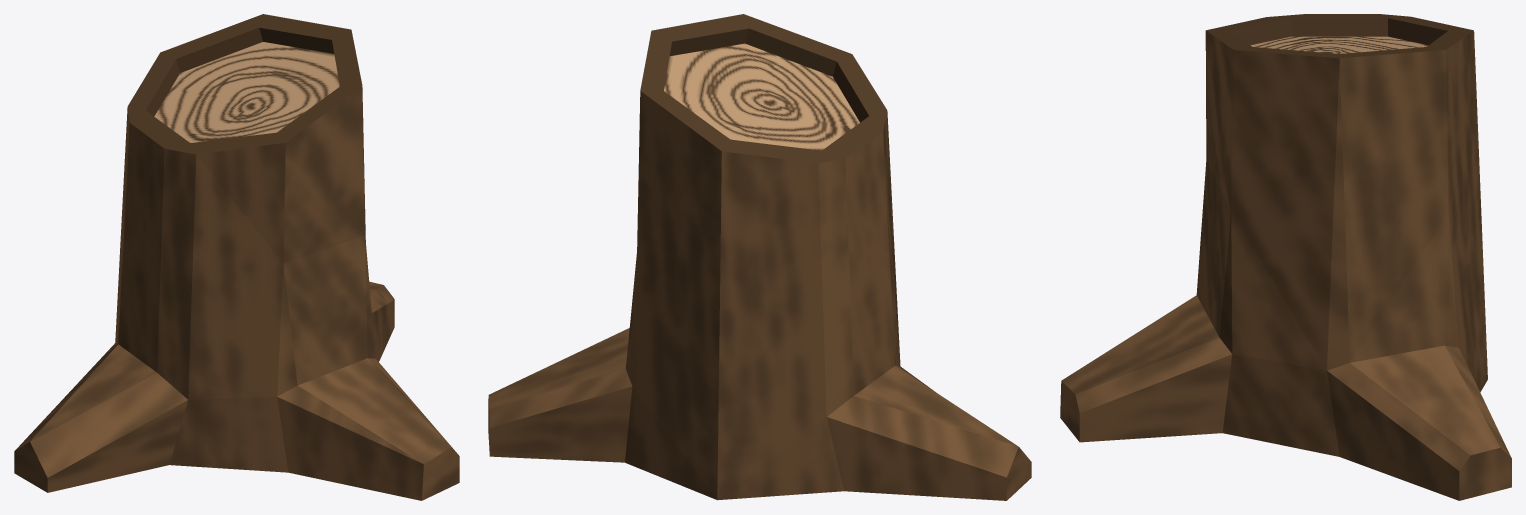
Rendered from Stump.glb.
3 renders of one model, left to right at view 1: azimuth 30°, elevation 25°; view 2: azimuth 150°, elevation 25°; view 3: azimuth 270°, elevation 25°, orthographic. The views are drawn at different scales.
Visible parts, largest first — view 1: _12_tree; view 2: _12_tree; view 3: _12_tree.
Part boxes in pixels (x1=…): _12_tree: x1=14, y1=14, x2=459, y2=500; _12_tree: x1=488, y1=14, x2=1031, y2=500; _12_tree: x1=1060, y1=14, x2=1511, y2=500.
Bounding box in the file's own units: 0.4567 × 0.3631 × 0.3804.
1 material, 1 textured.
